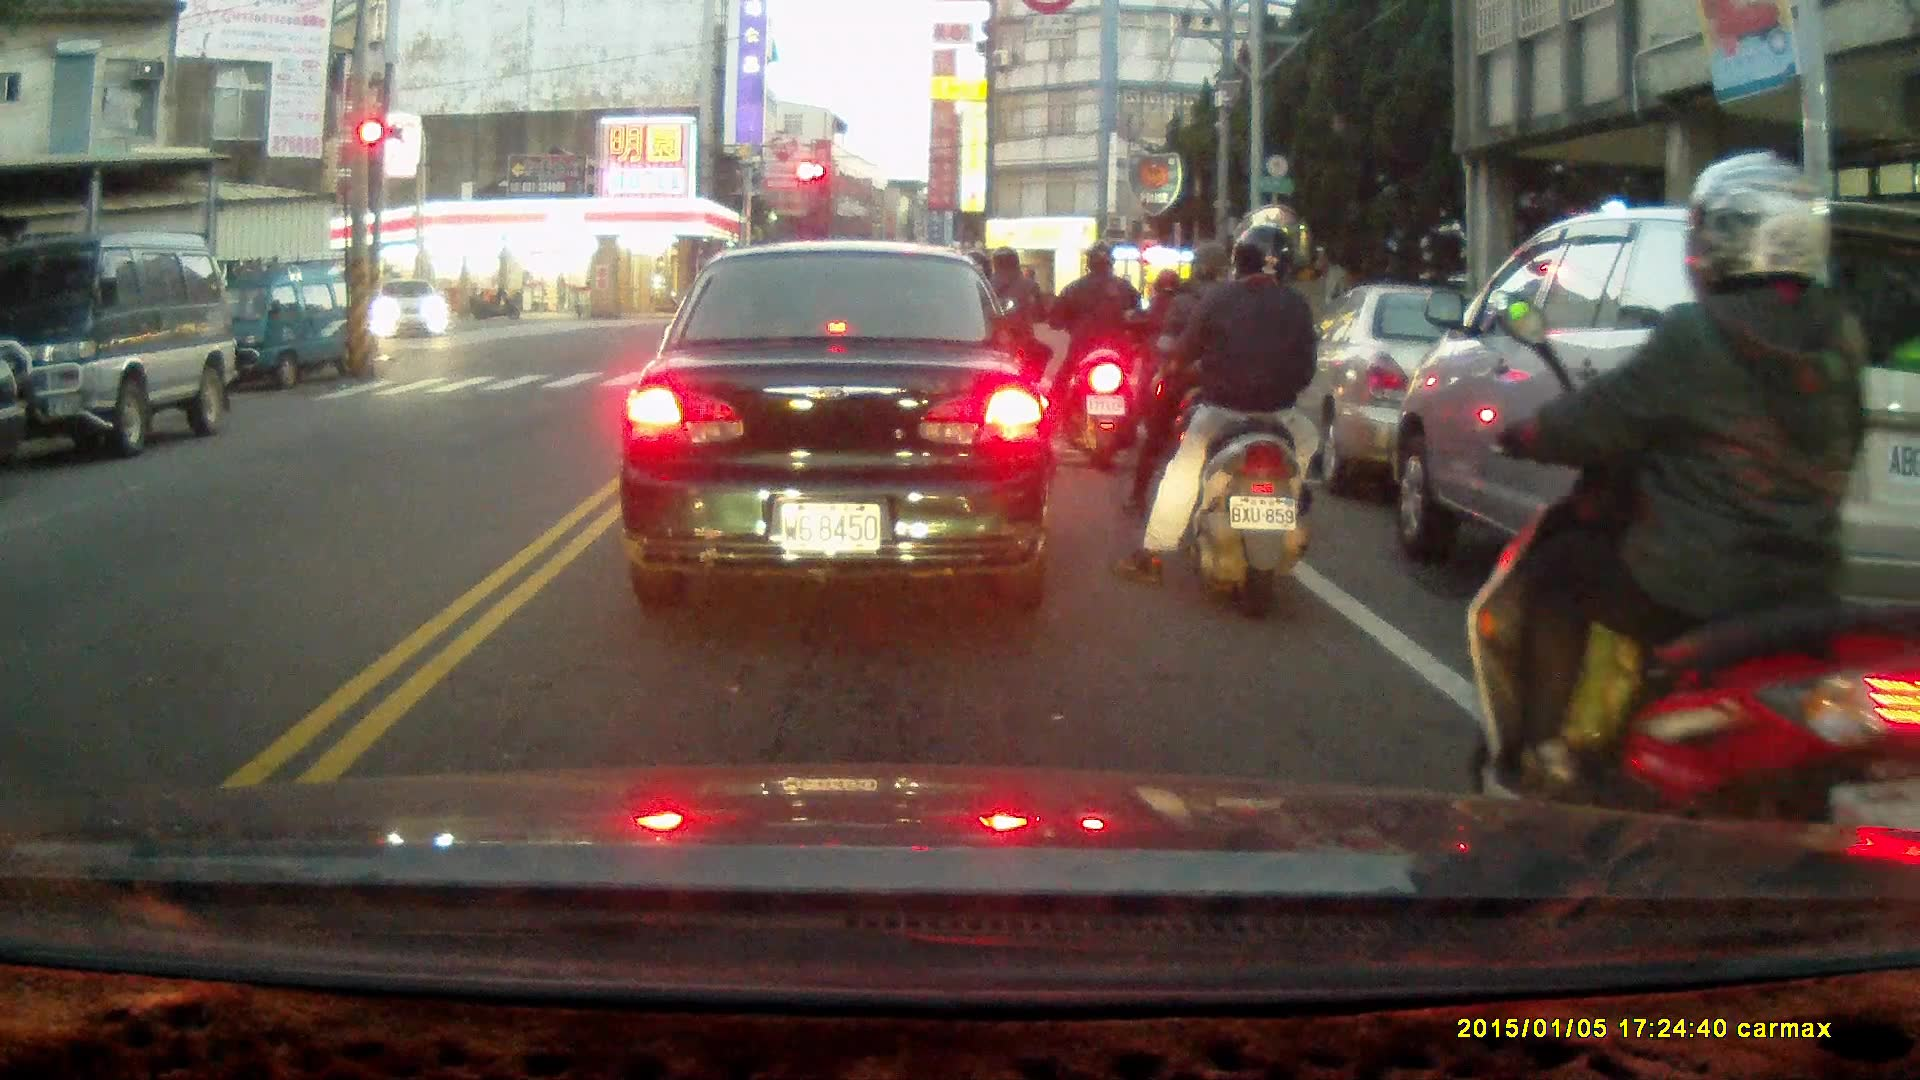rider: (1466, 147, 1907, 875), (1116, 226, 1318, 615), (1122, 237, 1259, 543), (1048, 244, 1142, 469), (968, 244, 1053, 435), (1132, 267, 1203, 449)
vehicle: (1391, 195, 1920, 685), (617, 243, 1061, 606), (1280, 283, 1608, 501), (1, 234, 239, 458), (194, 255, 381, 393), (372, 277, 451, 343)
